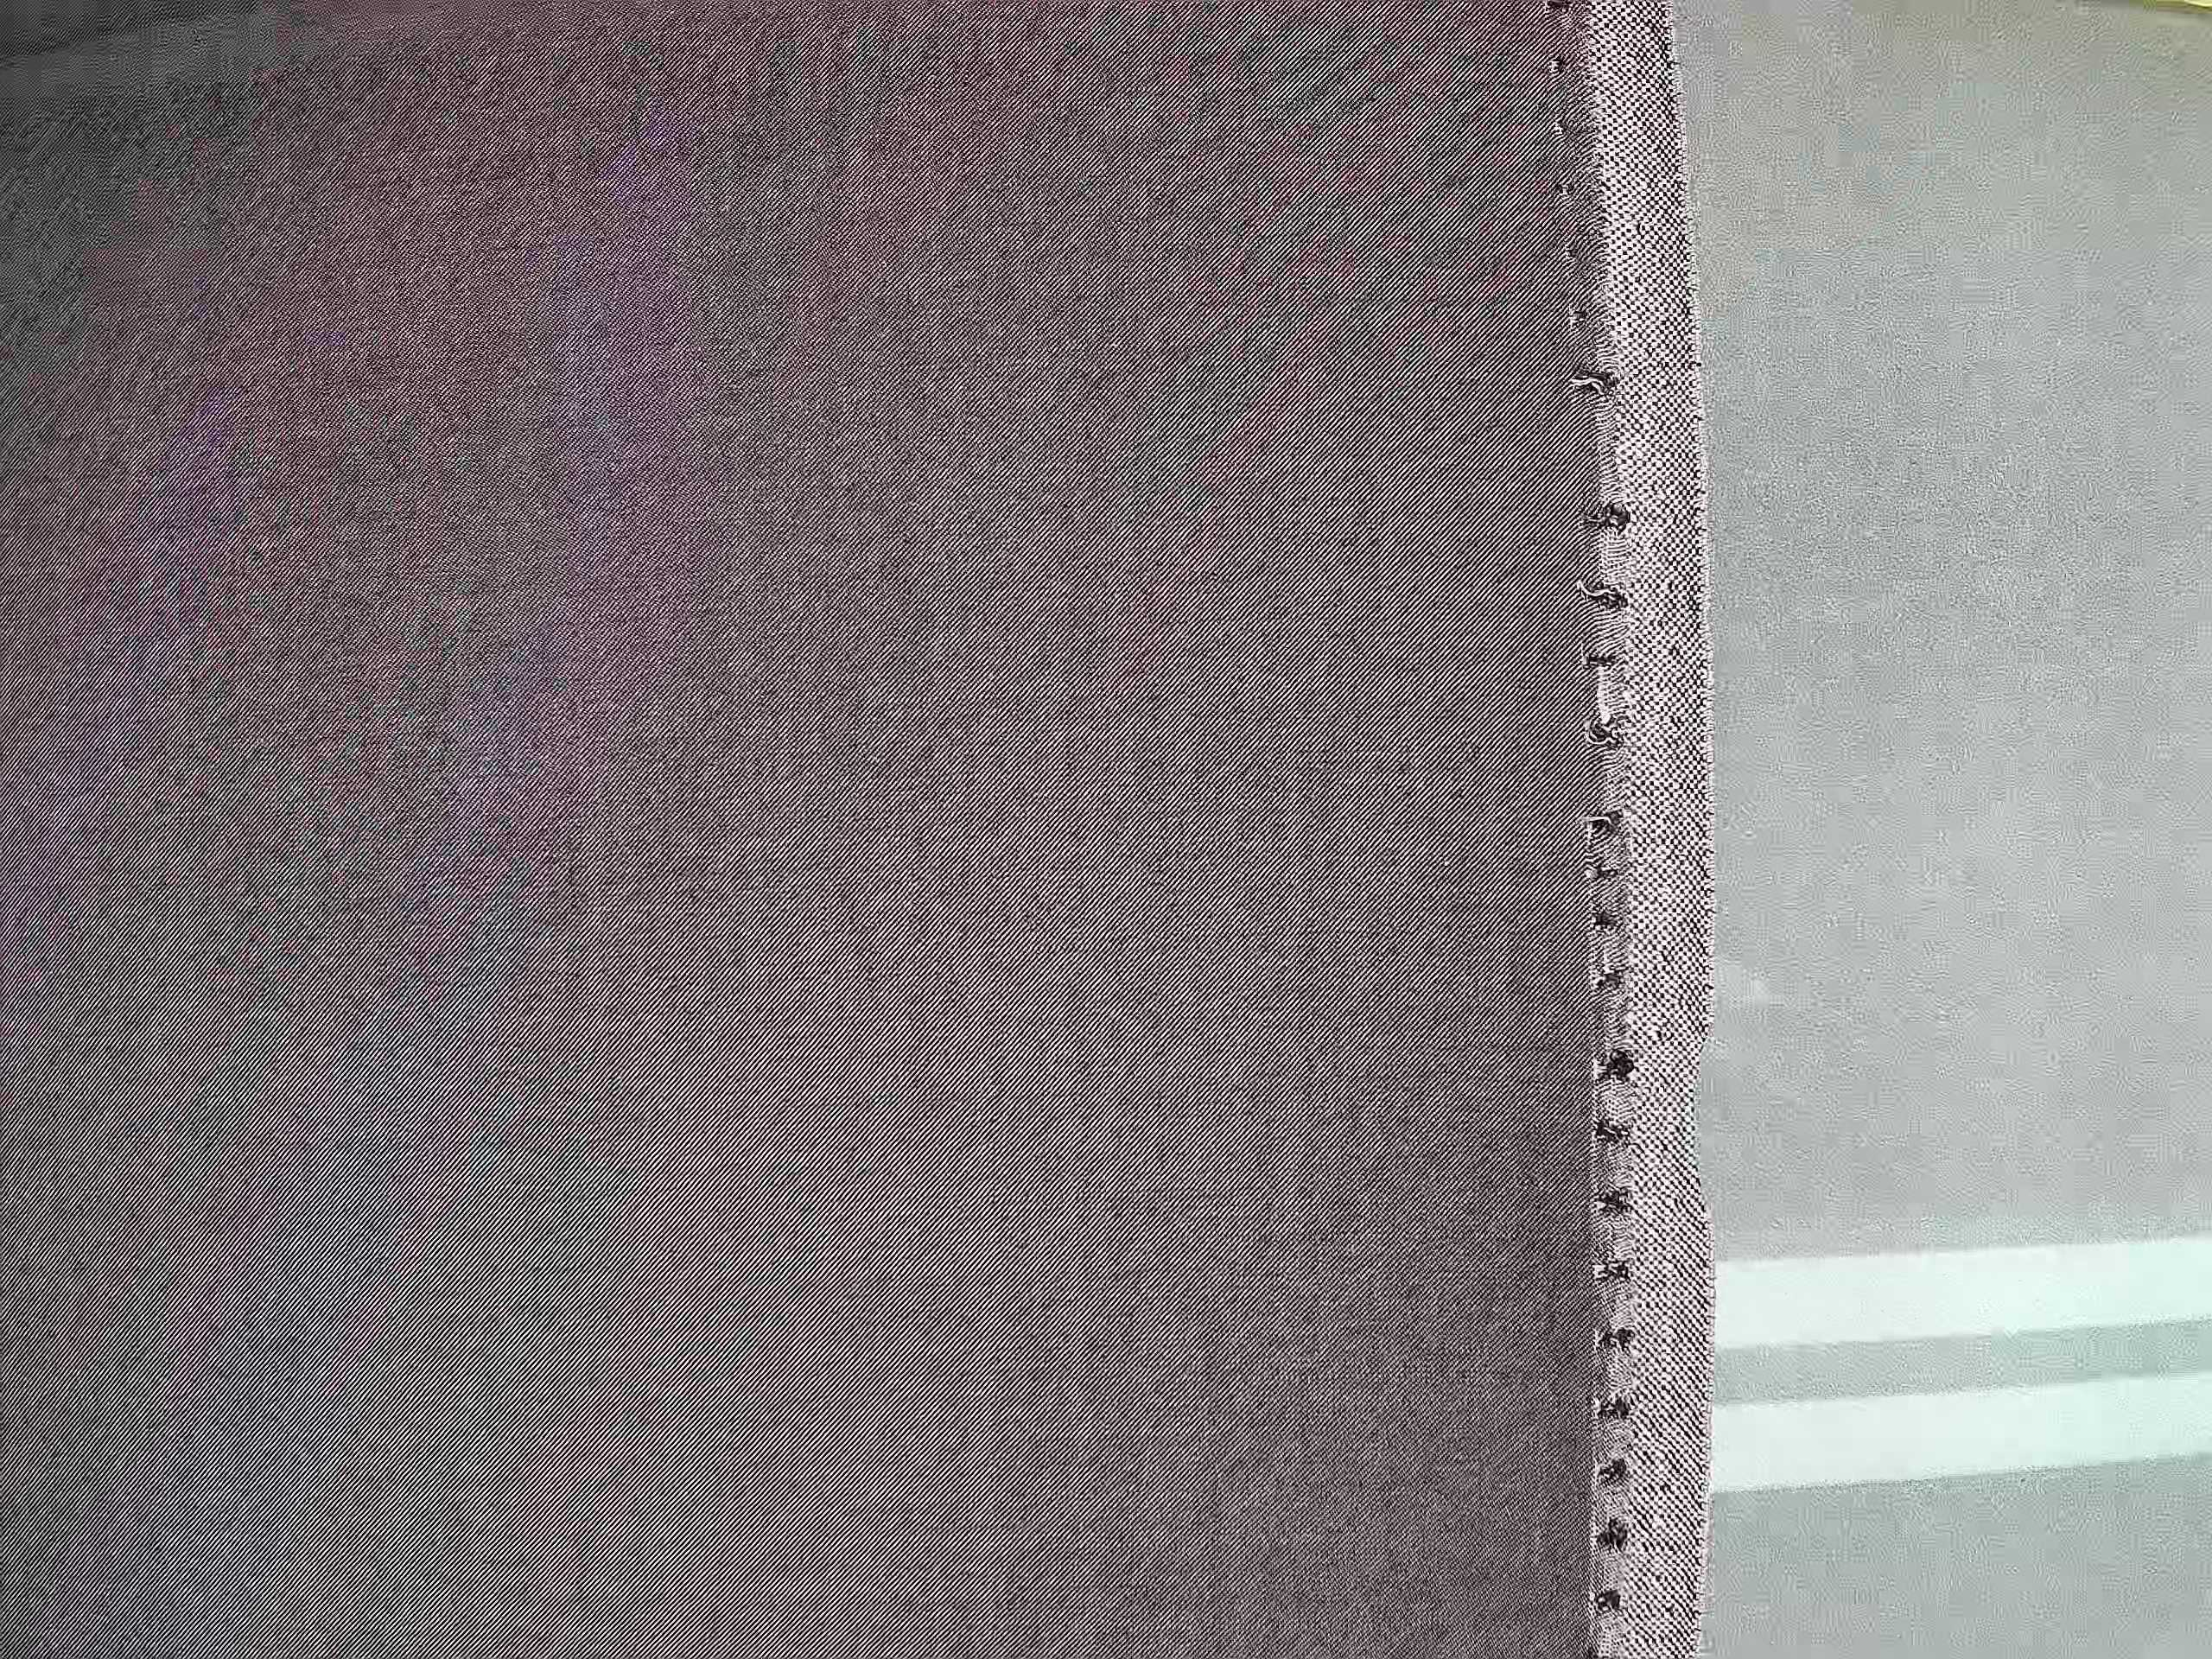puncture-hole: (1561, 345, 1648, 1642)
